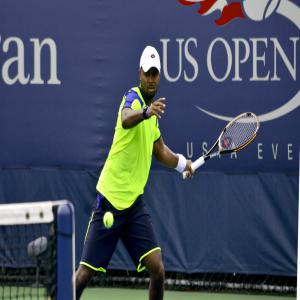TennisBall: (104, 212, 116, 232)
